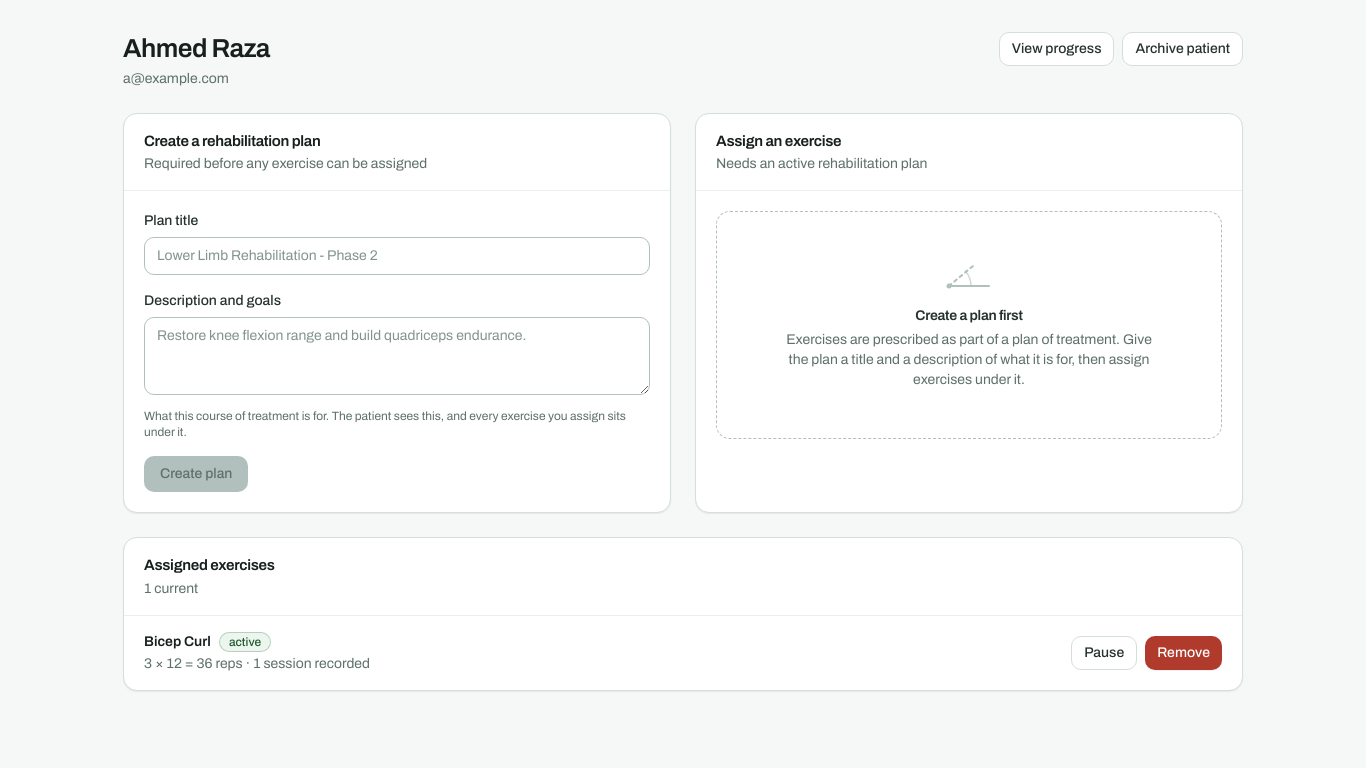
Test case: Assignment actions › pluralises a single session correctly
Click the button "Remove" at [1184, 652], box 1145,636 -> 1222,670
(page scrolled)
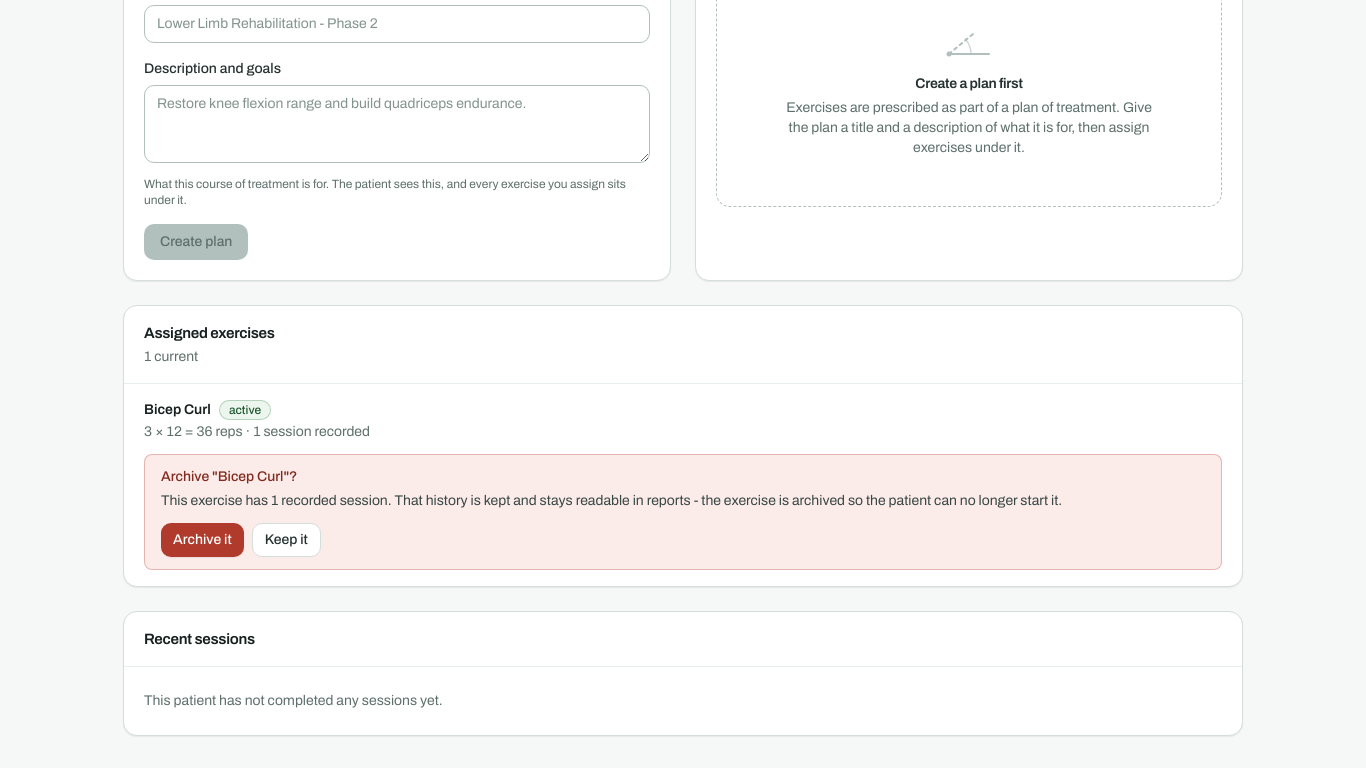
Check: the dialog shows "1 recorded session.", box 161,492 -> 1062,508
